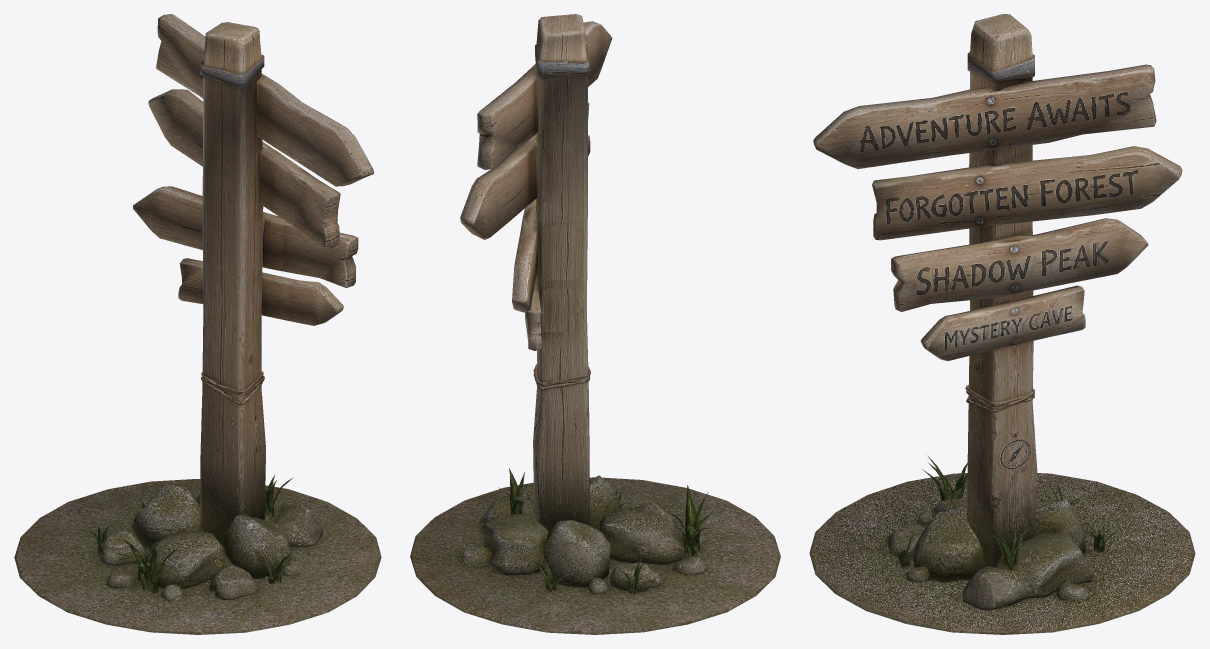
The model's file is tripo_convert_4e79bef5-dc6b-4b2a-b506-d60711b01cea.fbx.
3 views of the same model, side by side, from view 1: azimuth 30°, elevation 25°; view 2: azimuth 150°, elevation 25°; view 3: azimuth 270°, elevation 25° (orthographic). The views are drawn at different scales.
Parts seen in each view (by area): view 1: tripo_node_4e79bef5; view 2: tripo_node_4e79bef5; view 3: tripo_node_4e79bef5.
Part boxes in pixels (bbox=[...]): tripo_node_4e79bef5: bbox=[14, 14, 381, 634]; tripo_node_4e79bef5: bbox=[410, 14, 780, 634]; tripo_node_4e79bef5: bbox=[809, 14, 1195, 634].
Size of the model in its own units: 0.6387 by 0.998 by 0.6387.
Materials: 1 (1 with a texture image).
